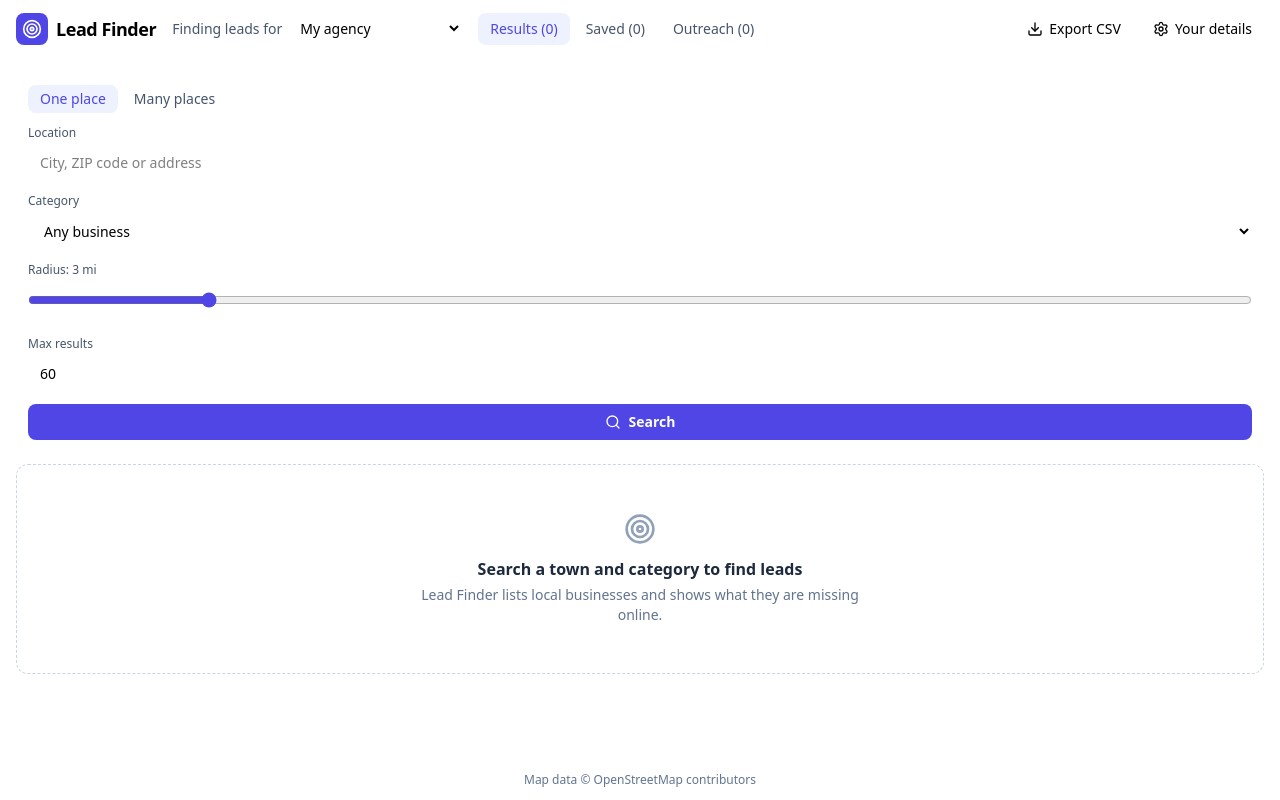
it: first run and search flow › shows the empty state when zero businesses are found
Type "Austin" into the field labelled "Location".
click(640, 163); type("Austin")  # box [28, 145, 1252, 181]
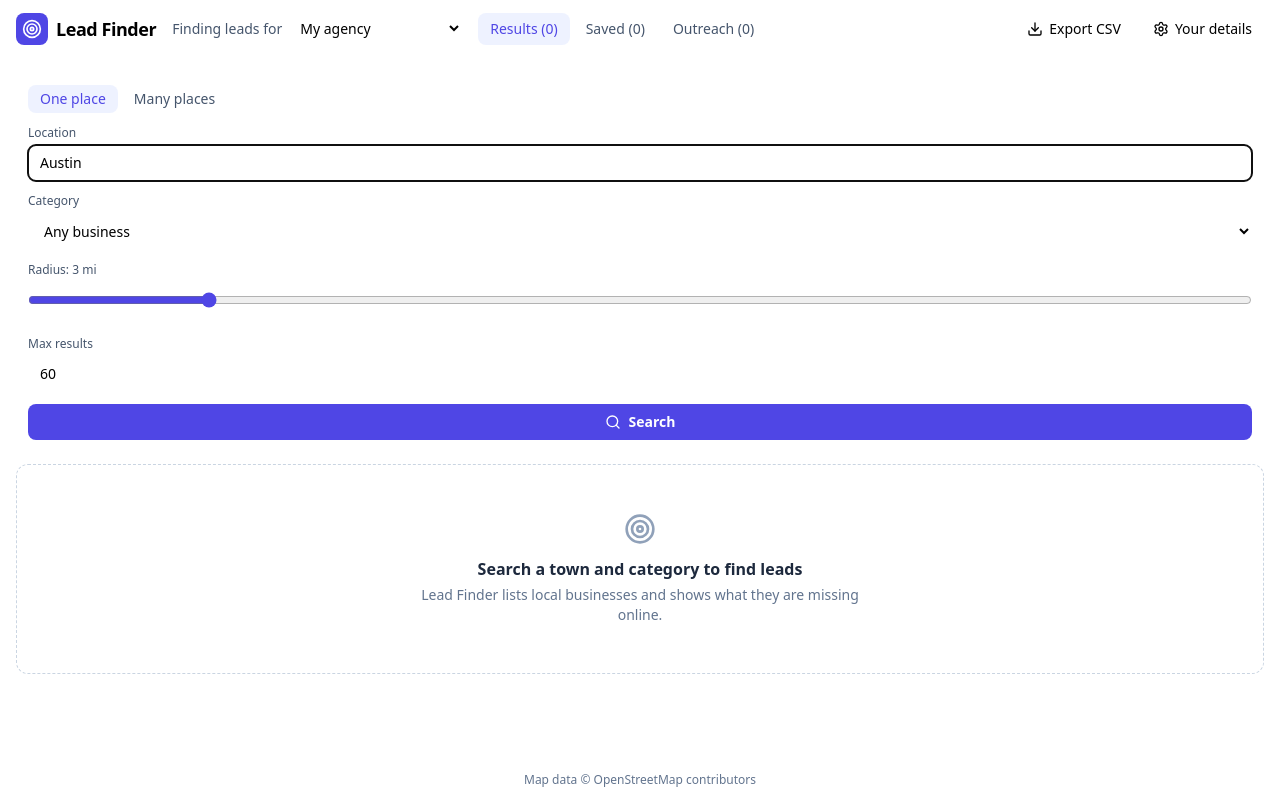
Click the button "Search".
click(640, 422)  # box [28, 404, 1252, 440]
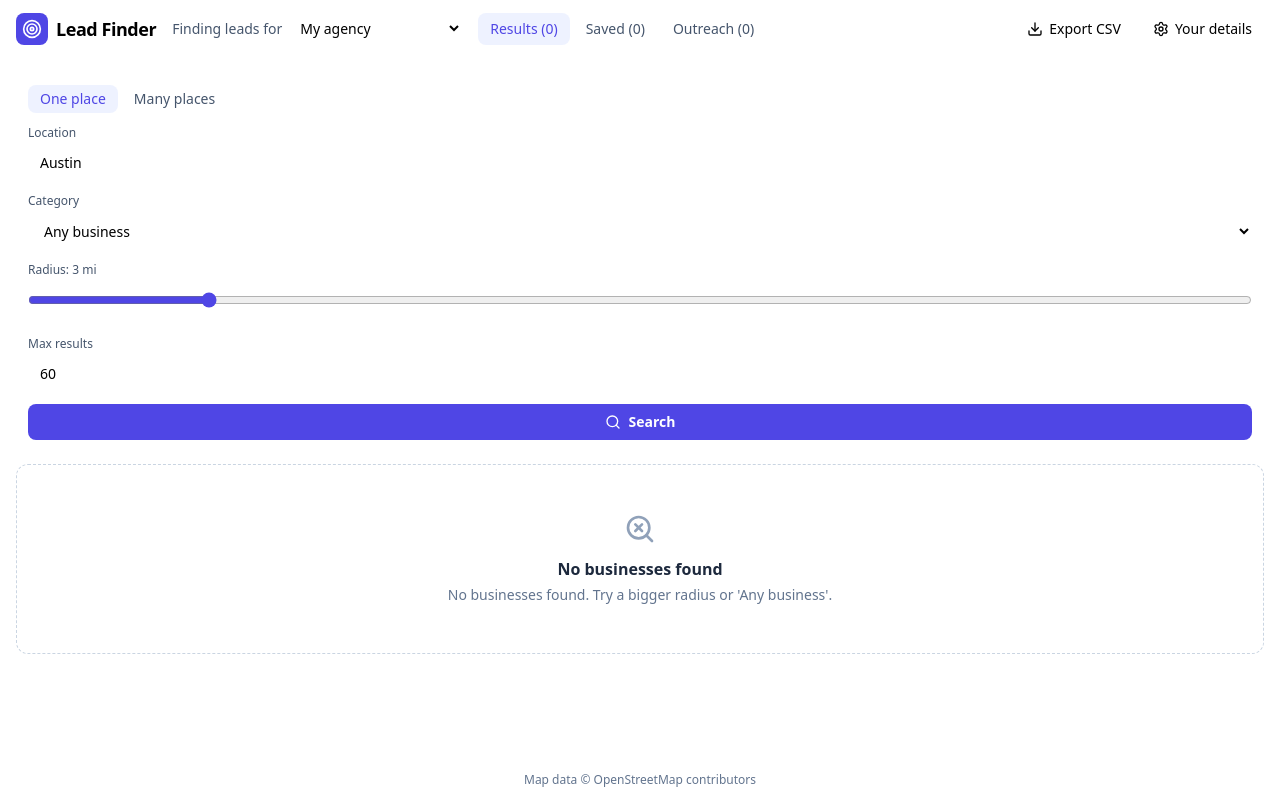
Result: the text "No businesses found. Try a bigger radius or 'Any business'." is shown at [448, 585, 832, 605]
